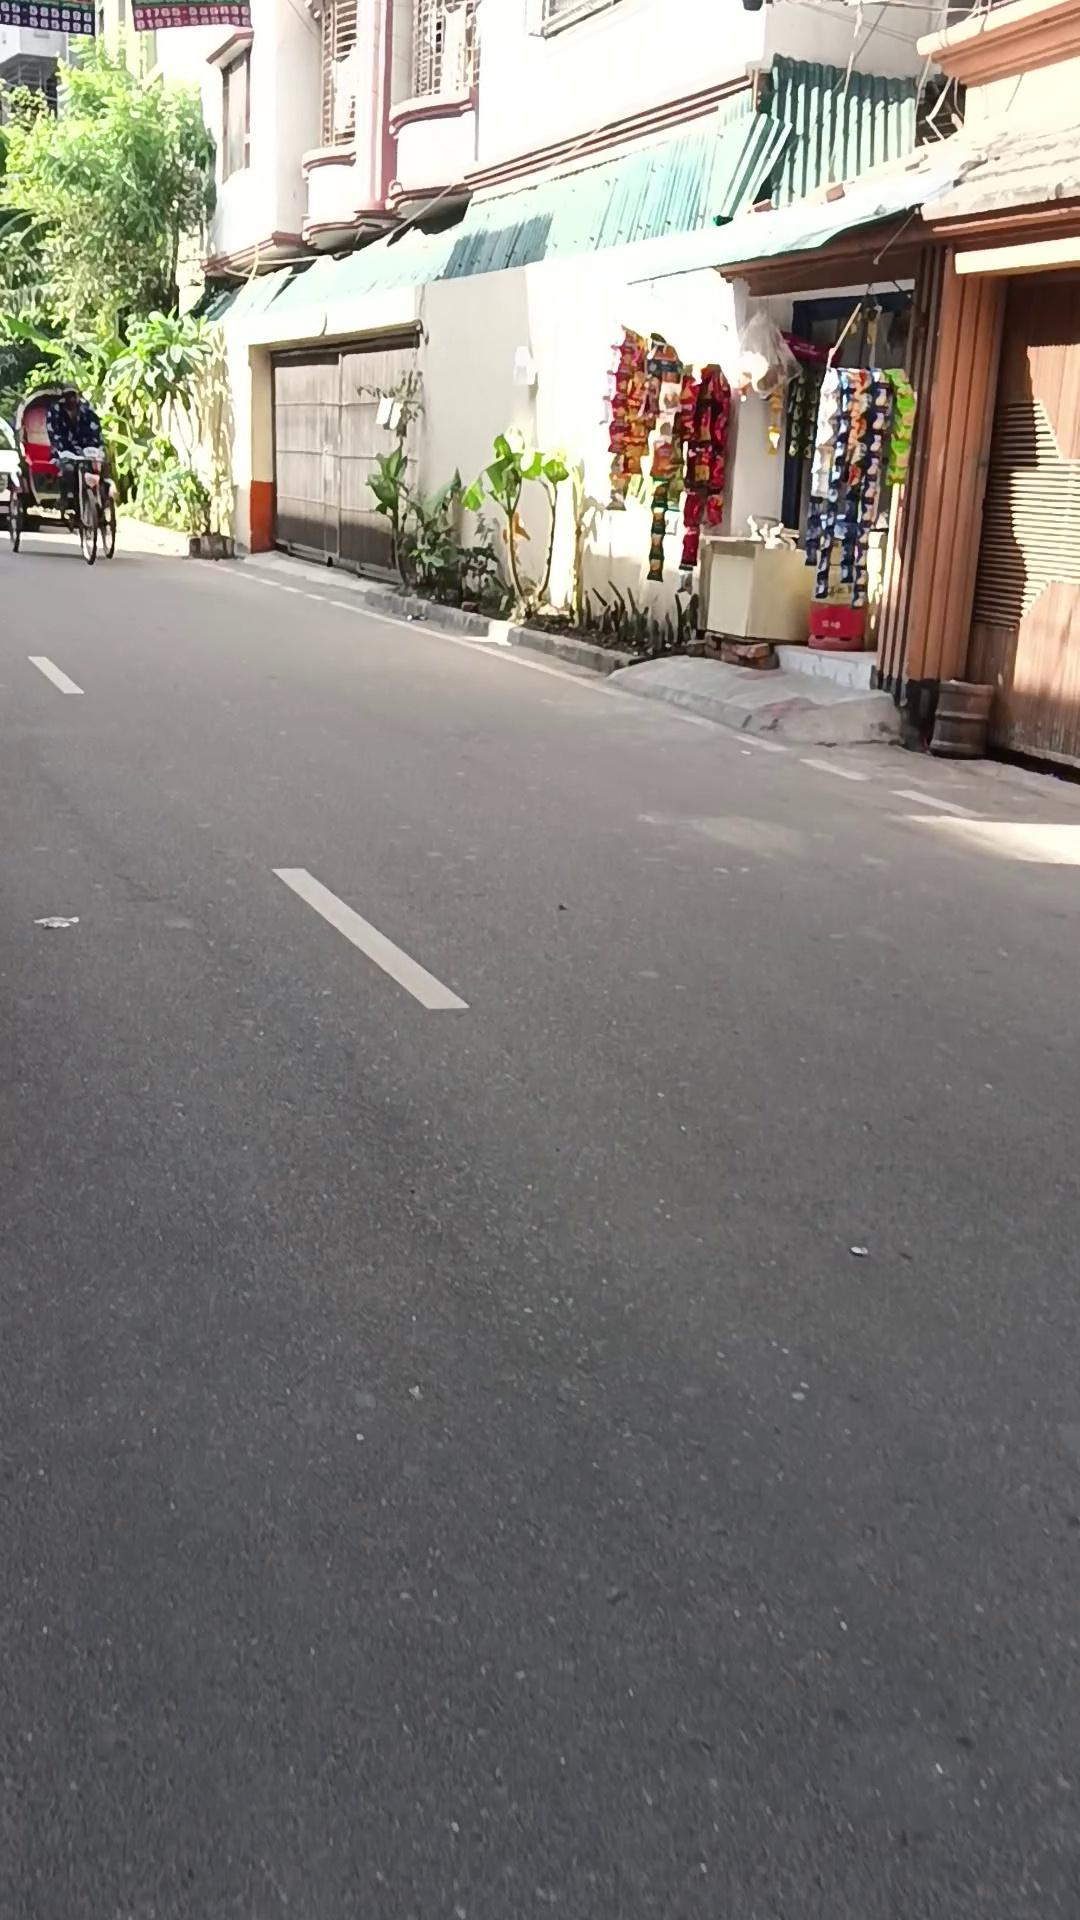Bollard: (0, 414, 28, 535)
Broken-road: (605, 649, 902, 746), (363, 582, 641, 676), (505, 621, 640, 675), (773, 641, 880, 690)
Curb: (46, 385, 113, 516)
Fallen-tree: (178, 473, 233, 559)
Fence: (1, 382, 117, 564)
Light-pole: (0, 33, 224, 546)
Obstacle: (414, 264, 535, 599)
